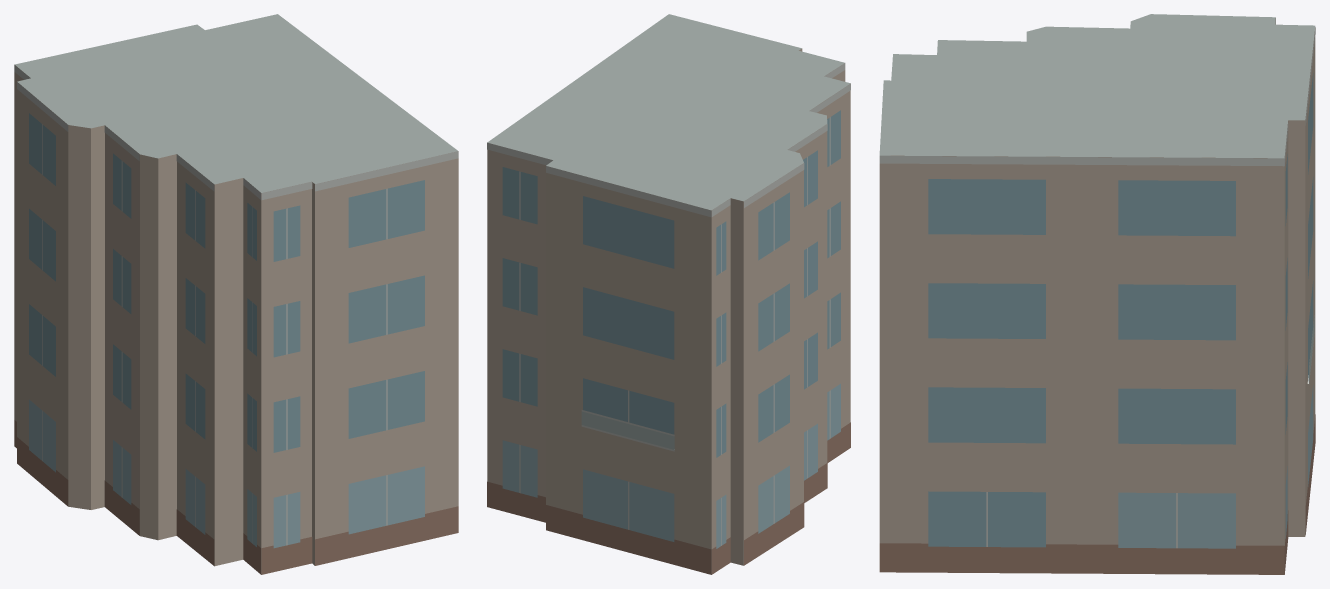
File: survey-upis-32659989.glb
3 renders of one model, left to right at view 1: azimuth 30°, elevation 25°; view 2: azimuth 150°, elevation 25°; view 3: azimuth 270°, elevation 25°, orthographic. The views are drawn at different scales.
Visible parts, largest first — view 1: survey-upis-32659989.tmp; view 2: survey-upis-32659989.tmp; view 3: survey-upis-32659989.tmp.
Part boxes in pixels (<box>): survey-upis-32659989.tmp: <box>14,14,458,574</box>; survey-upis-32659989.tmp: <box>487,14,850,574</box>; survey-upis-32659989.tmp: <box>879,14,1315,574</box>.
Bounding box in the file's own units: 9.51 × 12.8 × 12.15.
